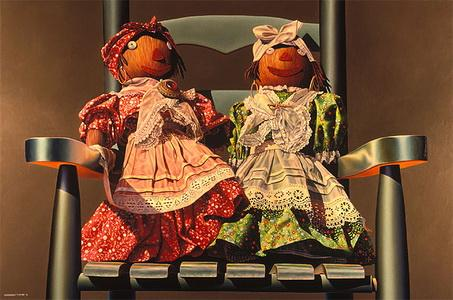person: (76, 23, 229, 267), (225, 16, 376, 263)
